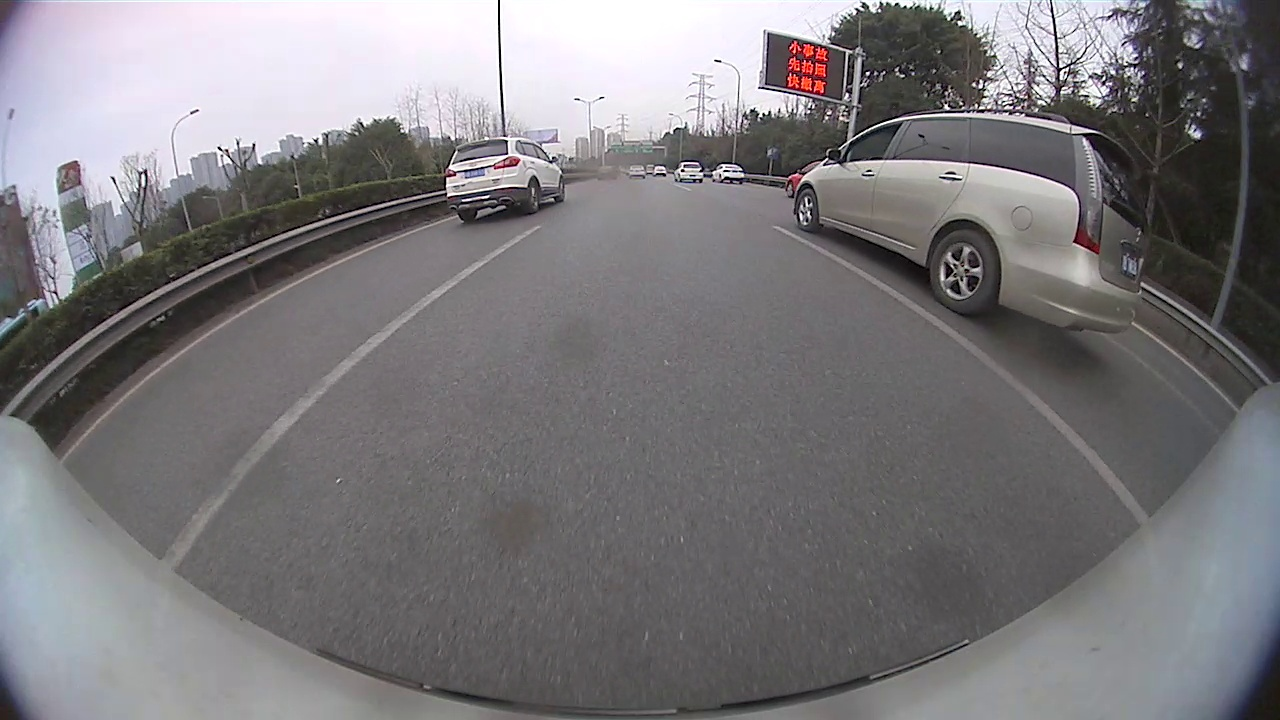car: (795, 106, 1151, 333), (442, 136, 566, 223), (784, 158, 821, 197), (712, 162, 744, 184), (674, 160, 704, 182)
front: (795, 191, 819, 233)
rear: (930, 229, 1000, 314), (527, 185, 540, 215)
